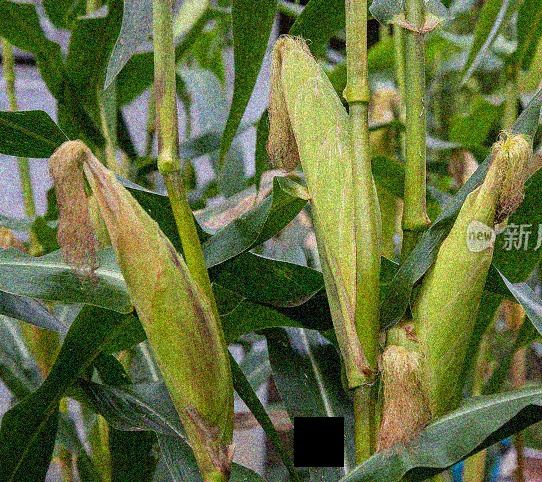corn_plant: (37, 135, 235, 475), (388, 124, 531, 448), (262, 39, 384, 386)
